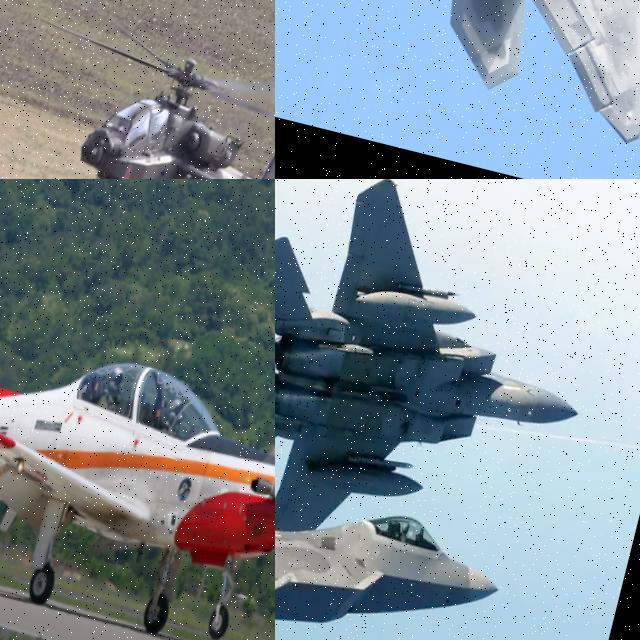Apache: (0, 0, 275, 179)
F22: (275, 179, 620, 616), (275, 371, 523, 640), (275, 0, 640, 163)
KT-1: (0, 221, 275, 640)
